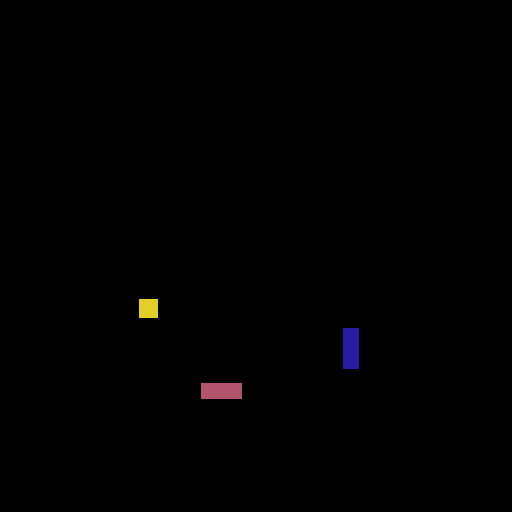side_rect: (196, 380, 246, 400)
square: (136, 296, 161, 321)
up_rect: (339, 325, 363, 372)
